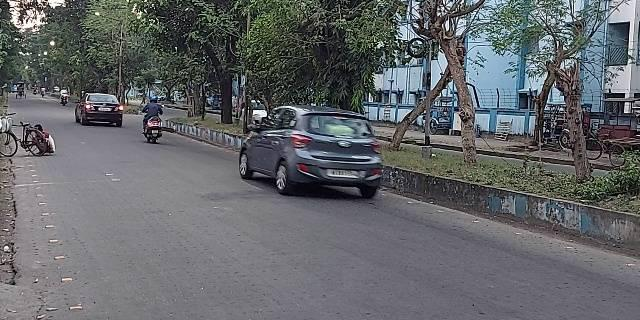Car: (236, 103, 384, 203), (75, 93, 125, 124)
Cycle: (1, 116, 43, 160)
Motorbike: (139, 94, 166, 143)
